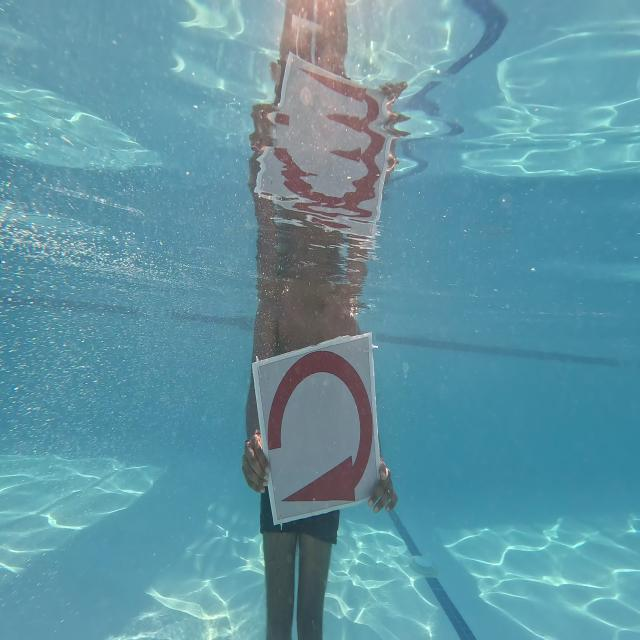red_side: (257, 341, 382, 518)
